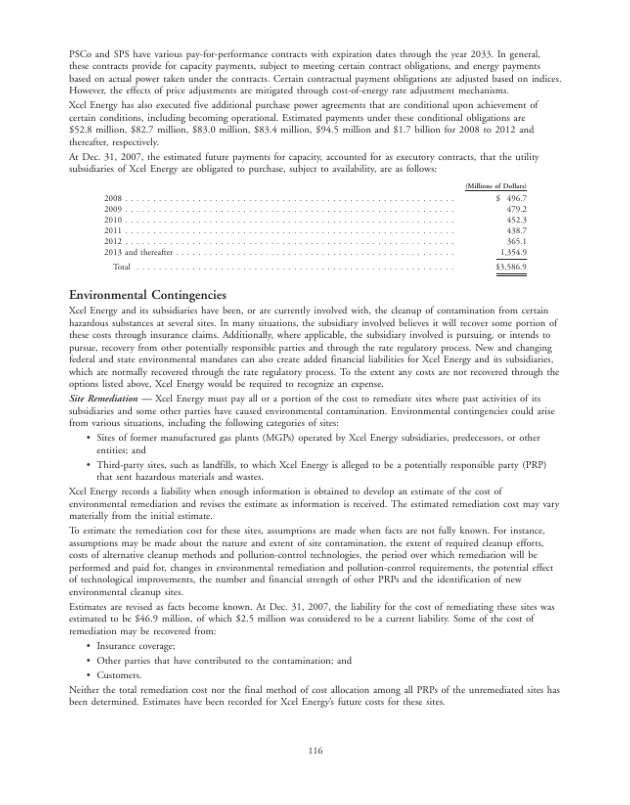table: (460, 180, 528, 282)
